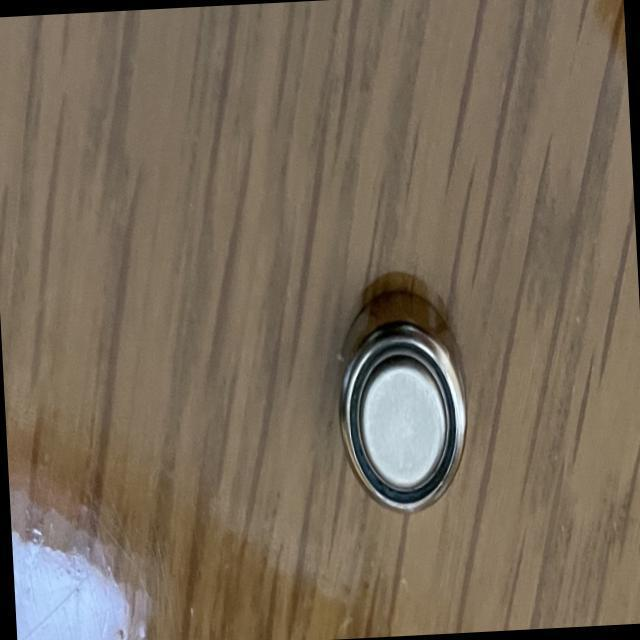COIN: (332, 288, 474, 518)
